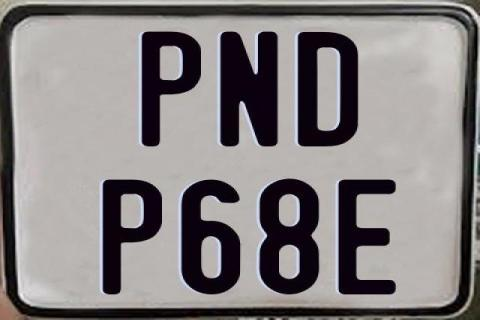0: (179, 178, 244, 294), (258, 178, 319, 296)
D: (297, 31, 357, 148)
E: (336, 178, 400, 298)
N: (219, 31, 279, 150)
P: (103, 178, 167, 294), (140, 31, 200, 148)
